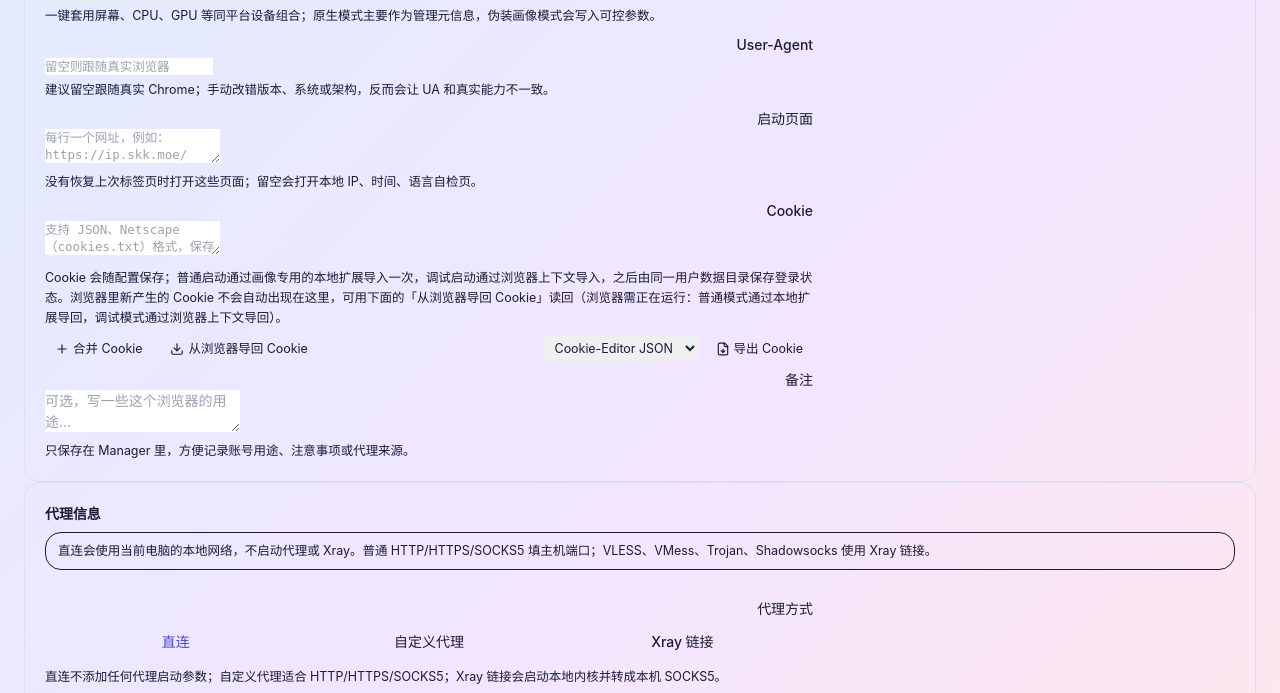
it: ProfileForm cookies and layout › exports cookies in the chosen format
The width and height of the screenshot is (1280, 693).
(page scrolled)
Select "cookies.txt" in the dropdown named "导出格式" at (620, 348), box x1=543 y1=336 x2=698 y2=361
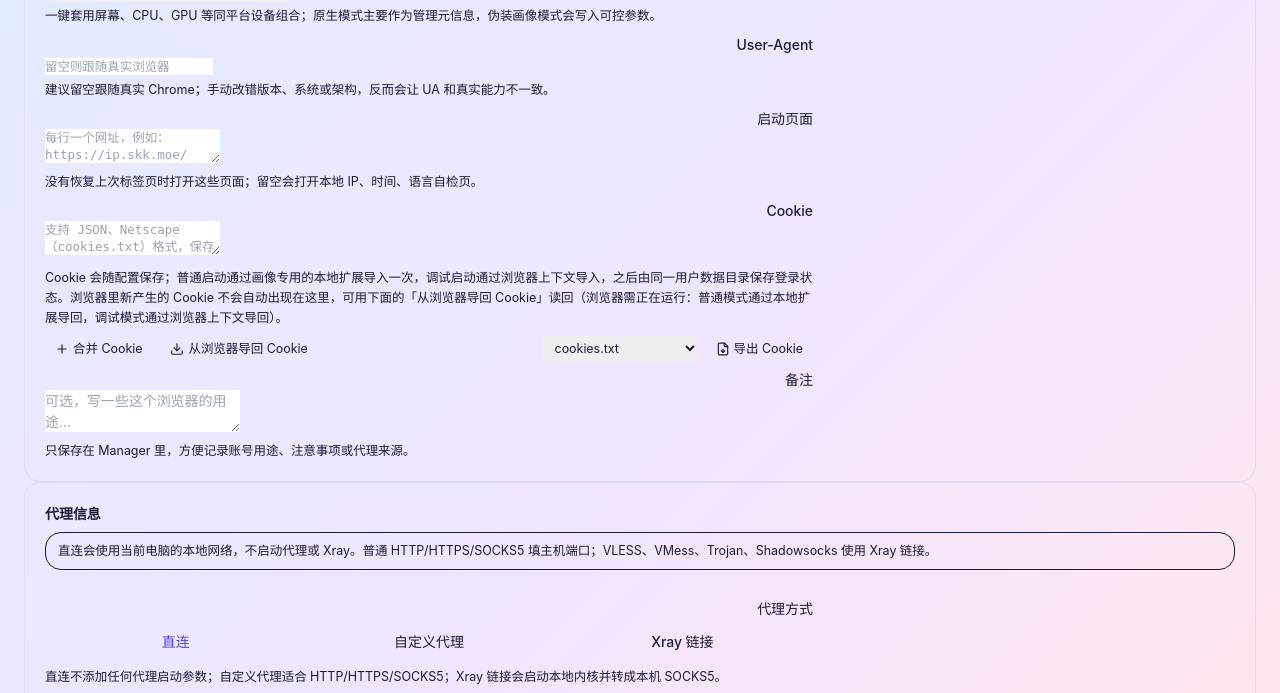
Click the button "导出 Cookie".
click(759, 348)  # box x1=706 y1=340 x2=813 y2=357
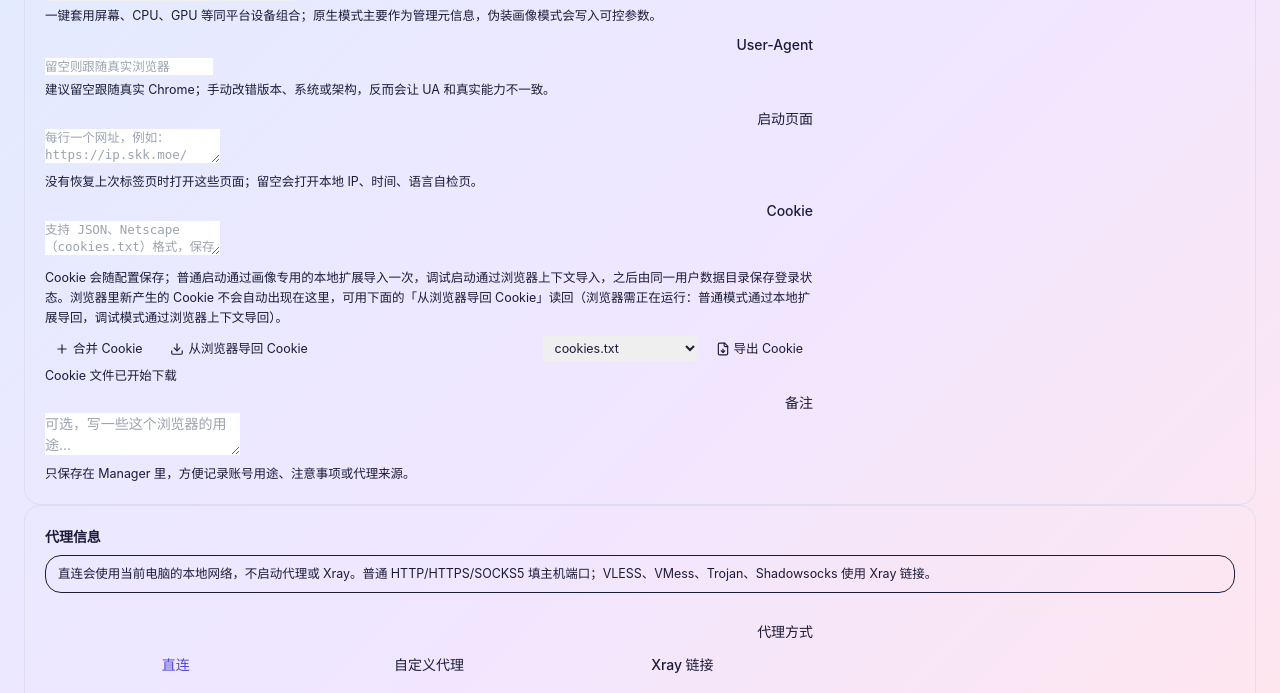
expect the text "Cookie 文件已开始下载" is shown: met, box x1=45 y1=368 x2=177 y2=383
